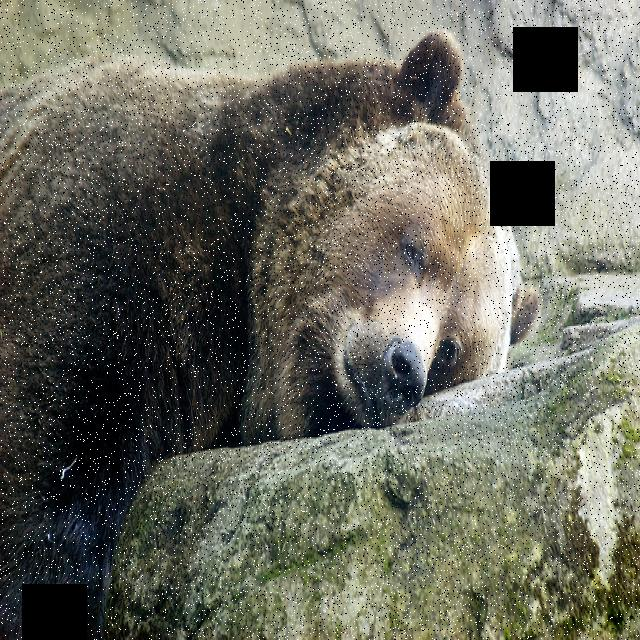Bear: (3, 19, 545, 636)
